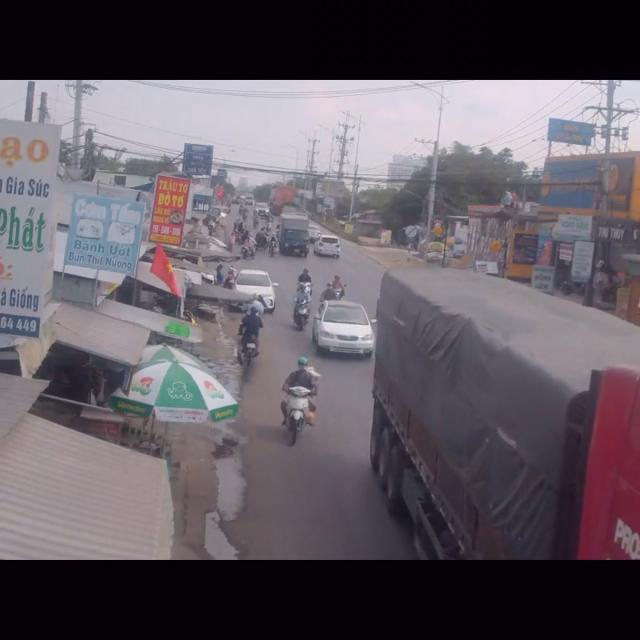car: (314, 300, 377, 362), (233, 268, 278, 318)
motorbike: (278, 356, 316, 450), (238, 306, 262, 372), (292, 282, 308, 330)
truck: (370, 261, 640, 560)
